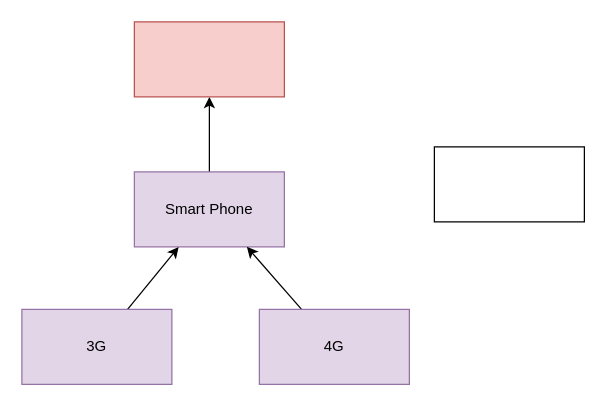
This 606x406 diagram has some shape labels left out. The centre of each missing label's shape, as x and y in pixels:
Hybrid (Multilevel + Hierarchial): point 508,184
Phone: point 208,59
